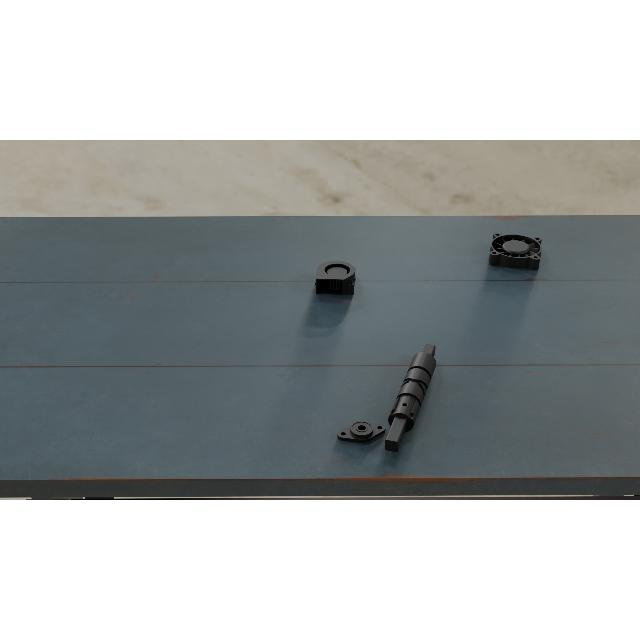Pieza1: (378, 338, 442, 458)
Pieza2: (334, 416, 390, 446)
Pieza3: (315, 260, 357, 296)
Pieza4: (488, 232, 542, 272)
